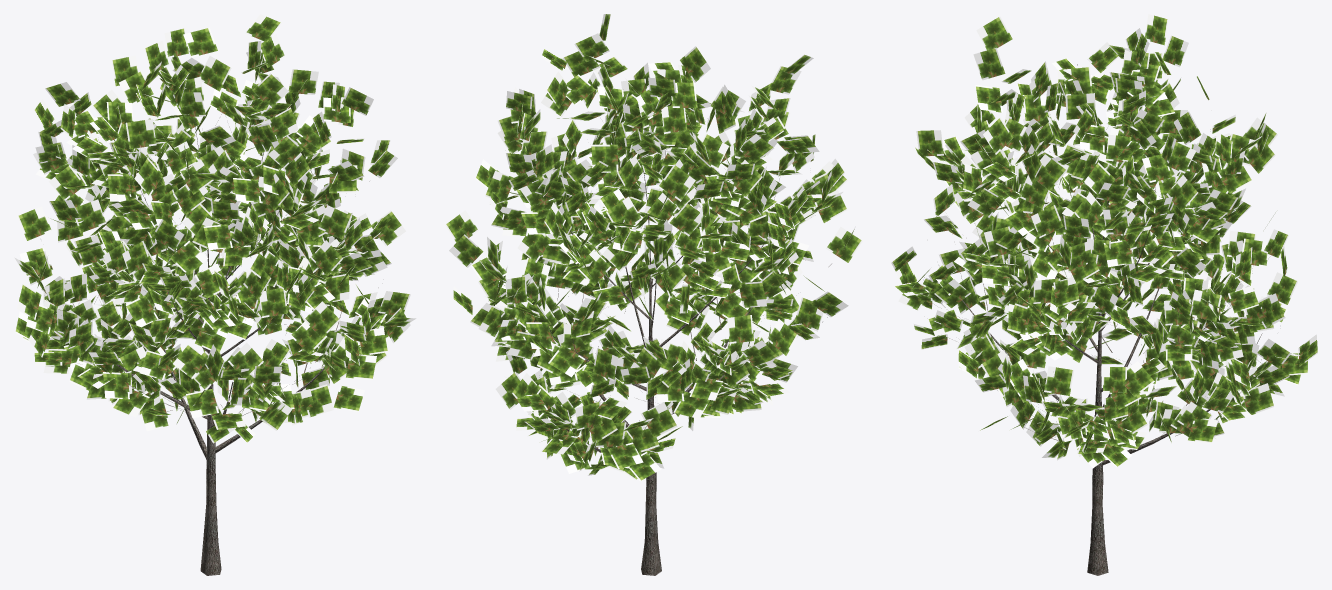
The model's file is maple.glb.
3 renders of one model, left to right at view 1: azimuth 30°, elevation 25°; view 2: azimuth 150°, elevation 25°; view 3: azimuth 270°, elevation 25°, orthographic.
Visible parts, largest first — view 1: Material2 (×2); view 2: Material2 (×2); view 3: Material2 (×2).
Boxes of the visible parts, x1,y1,x2,y2 form: Material2 (×2): [14, 14, 416, 575]; Material2 (×2): [445, 14, 862, 575]; Material2 (×2): [891, 14, 1317, 575].
Bounding box in the file's own units: 0.728 × 0.9491 × 0.7107.
2 materials, 2 textured.
